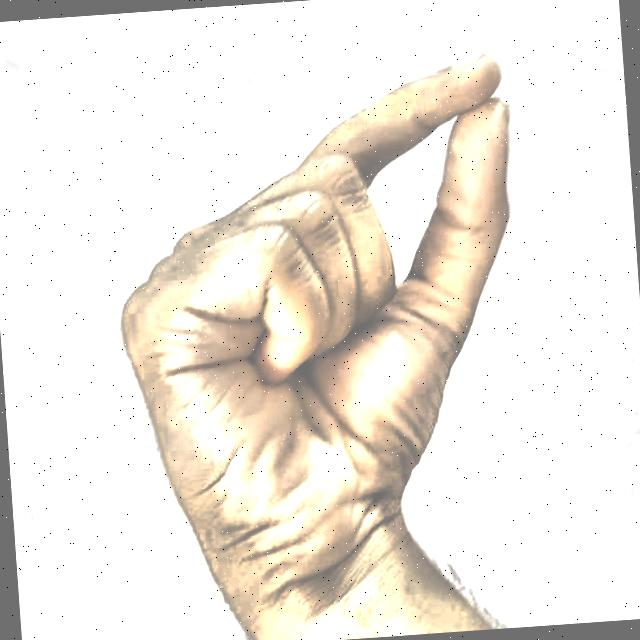Anusshar: (73, 0, 559, 632)
